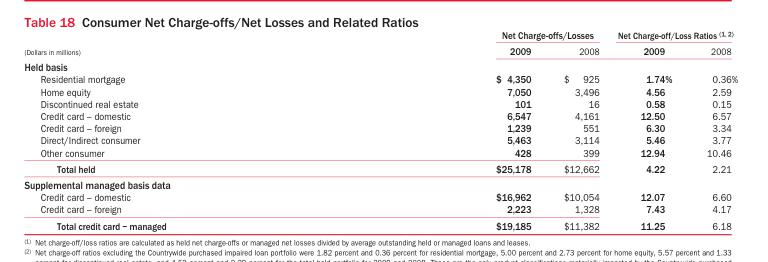table: (23, 28, 737, 231)
table column: (23, 28, 330, 231), (330, 28, 546, 231), (607, 28, 688, 231), (546, 28, 607, 231), (688, 28, 737, 231)
table column header: (23, 28, 737, 58)
table projected row header: (23, 58, 737, 72), (23, 176, 737, 190)
table row: (23, 42, 737, 58), (23, 160, 737, 176), (23, 28, 737, 42), (23, 58, 737, 72), (23, 146, 737, 160), (23, 176, 737, 190), (23, 203, 737, 217), (23, 217, 737, 231), (23, 72, 737, 85), (23, 133, 737, 146), (23, 190, 737, 203), (23, 85, 737, 97), (23, 97, 737, 109), (23, 109, 737, 121), (23, 121, 737, 133)
table spanning cell: (23, 28, 330, 58), (330, 28, 607, 42), (607, 28, 737, 42)
